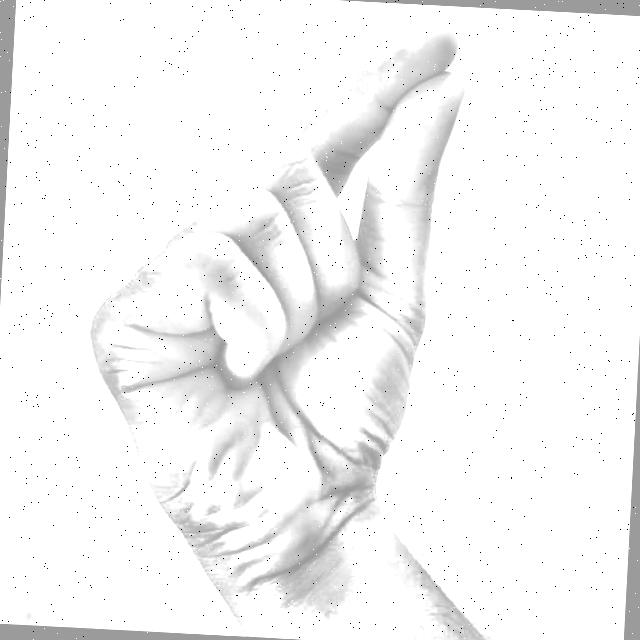Anusshar: (46, 0, 501, 626)
